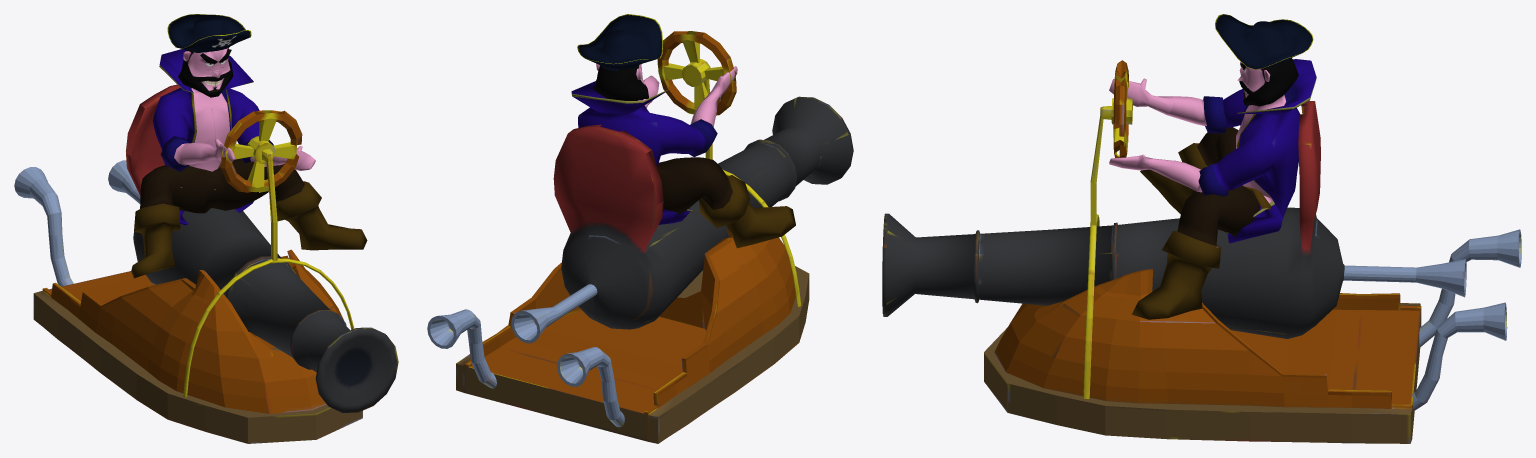
Rendered from pirataGiroDER_000312.obj.
3 renders of one model, left to right at view 1: azimuth 30°, elevation 25°; view 2: azimuth 150°, elevation 25°; view 3: azimuth 270°, elevation 25°, orthographic. The views are drawn at different scales.
Visible parts, largest first — view 1: carro_pirata, Pirata_PirataH; view 2: carro_pirata, Pirata_PirataH; view 3: carro_pirata, Pirata_PirataH.
Part boxes in pixels (left/top/right/bottom): carro_pirata: left=14, top=84, right=398, bottom=443; Pirata_PirataH: left=131, top=14, right=367, bottom=278; carro_pirata: left=427, top=31, right=853, bottom=443; Pirata_PirataH: left=571, top=14, right=795, bottom=248; carro_pirata: left=882, top=60, right=1521, bottom=443; Pirata_PirataH: left=1109, top=14, right=1316, bottom=319.
Bounding box in the file's own units: 5.65 × 7.69 × 12.1.
Materials: 2 (2 with a texture image).
